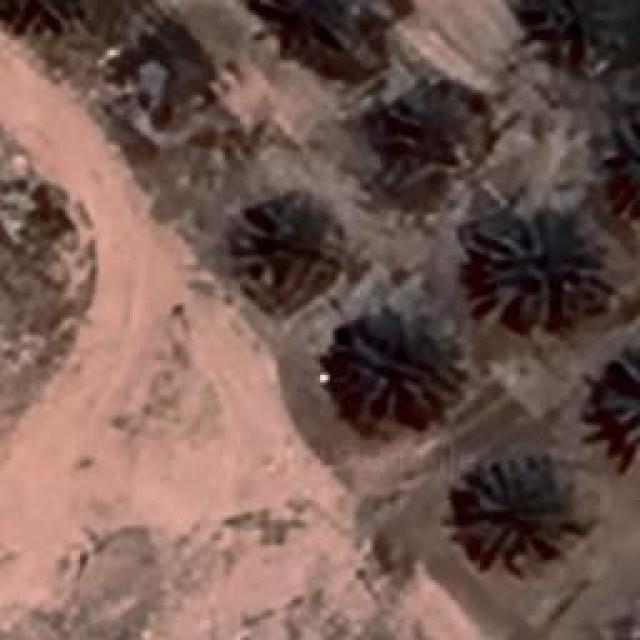PalmTree: (30, 14, 625, 162), (475, 210, 603, 325), (335, 314, 453, 434), (458, 460, 580, 562), (241, 202, 334, 300), (388, 94, 488, 172), (259, 0, 369, 70), (530, 0, 635, 60), (600, 342, 638, 448)
